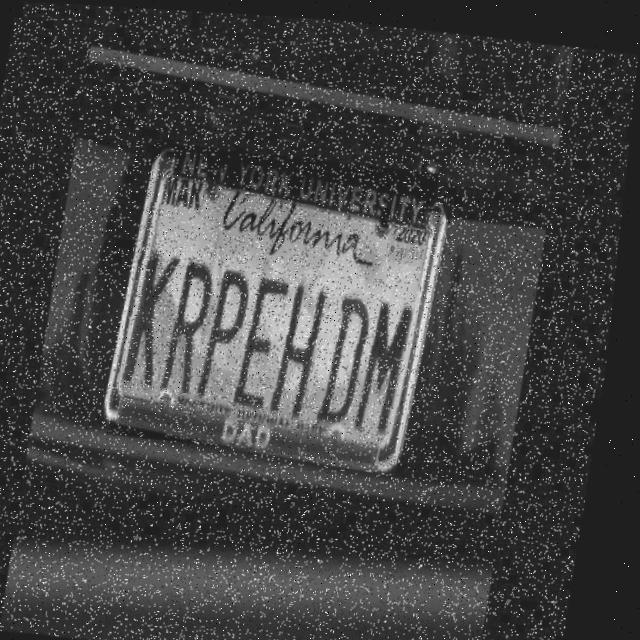LicensePlate: (117, 139, 444, 462)
